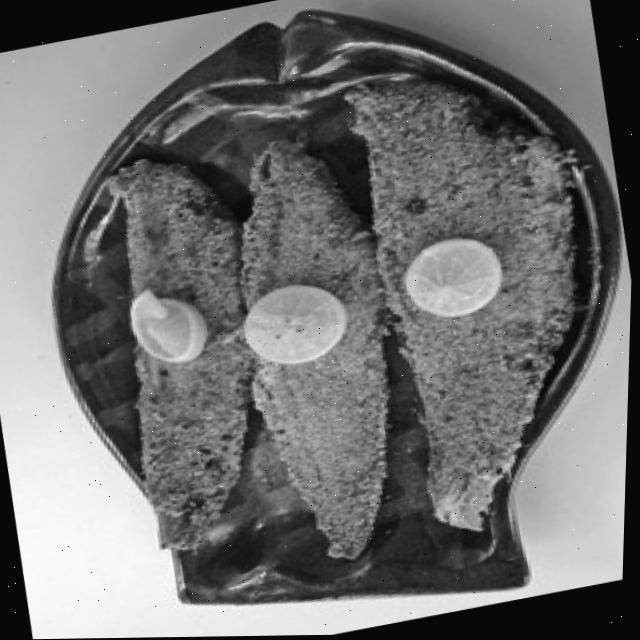炸货点心: (36, 66, 628, 612)
熟制海鲜: (36, 66, 628, 612)
